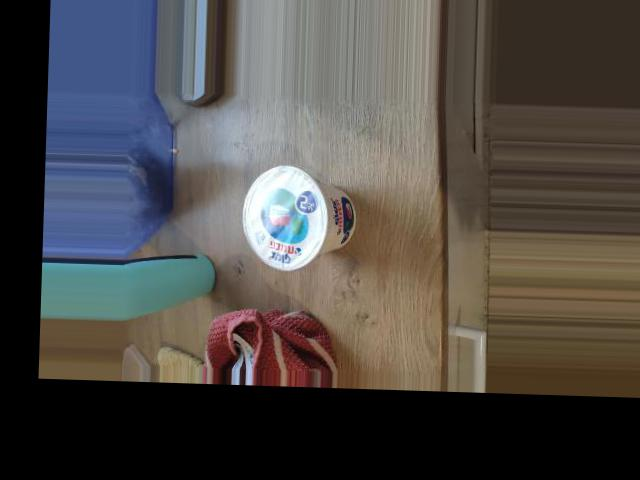cotage: (235, 170, 361, 267)
